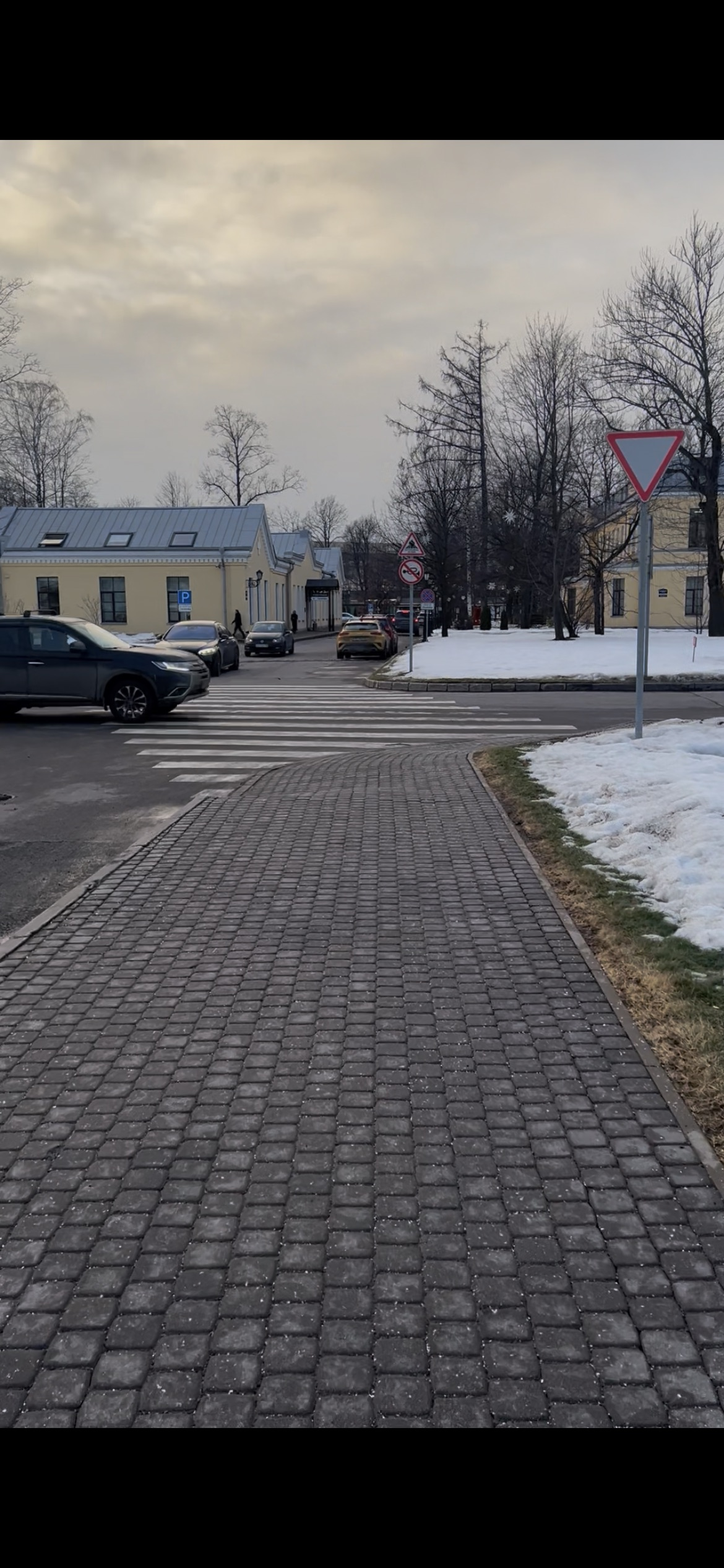road sign: (604, 429, 687, 505), (397, 530, 426, 556), (178, 590, 192, 604), (179, 605, 192, 612)
